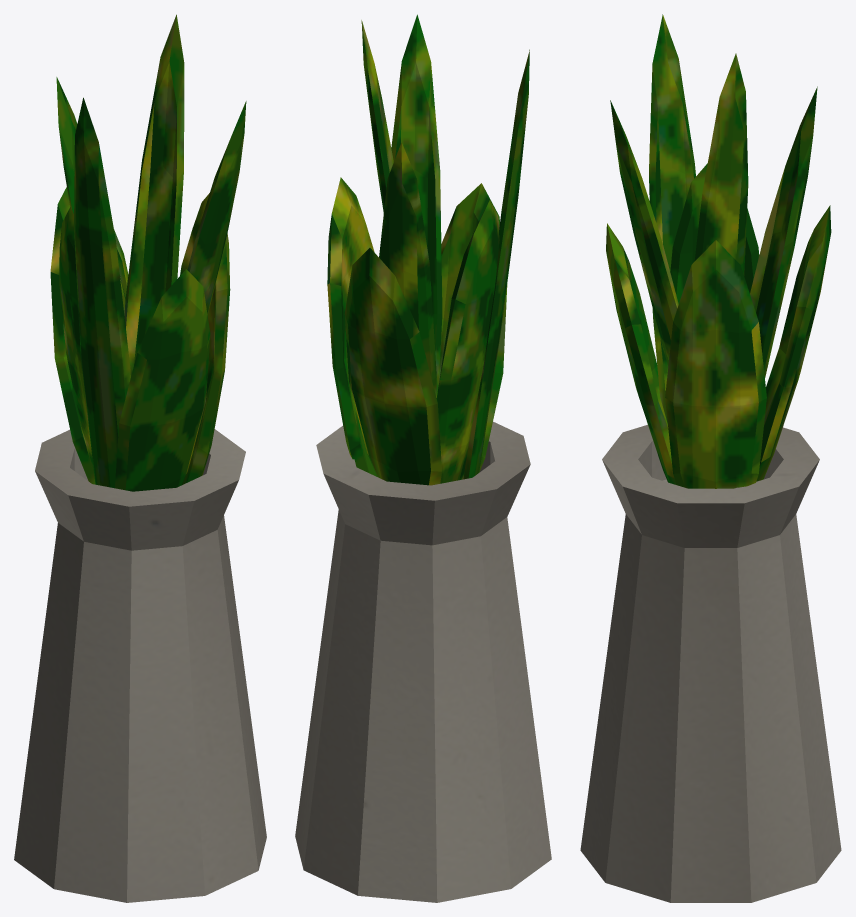
Rendered from RuukkuKasvi.fbx.
3 views of the same model, side by side, from view 1: azimuth 30°, elevation 25°; view 2: azimuth 150°, elevation 25°; view 3: azimuth 270°, elevation 25° (orthographic).
Parts seen in each view (by area): view 1: Kasvi; view 2: Kasvi; view 3: Kasvi.
Boxes of the visible parts, <box> form: Kasvi: <box>14,14,266,902</box>; Kasvi: <box>295,14,551,902</box>; Kasvi: <box>580,14,841,902</box>.
Size of the model in its own units: 190 by 694 by 200.
Materials: 2 (2 with a texture image).
